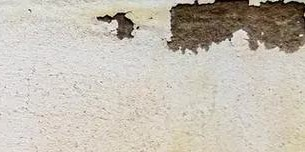Spalling: (166, 1, 305, 56), (95, 10, 141, 41)
